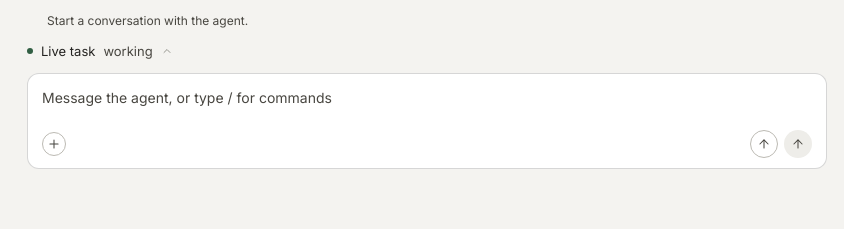
Test case: AgentChatSurface › renders finished and failed children when those states are present
Click the button with test id "who-is-working": [100, 51] box [19,37,181,65]
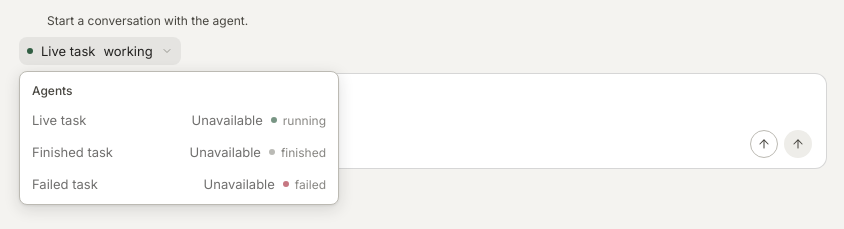
Expected: the element with class "workspace-subagent-list" shows "Finished task", [24,136,334,168]
Expected: the element with class "workspace-subagent-list" shows "Failed task", [24,168,334,200]
